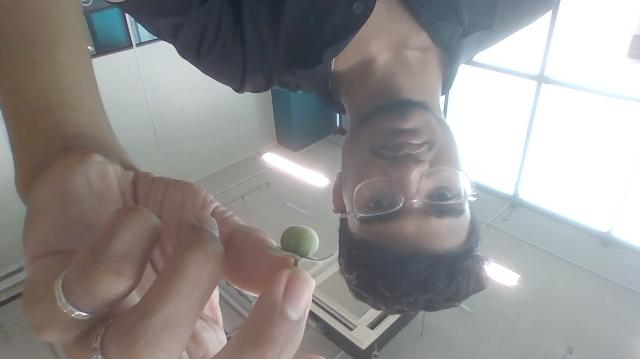Fruit Maturation: (280, 224, 319, 261)
